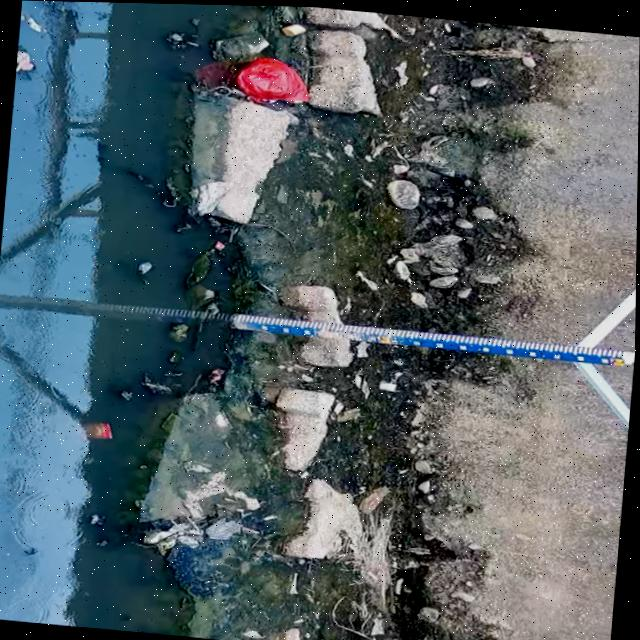water-meter: (219, 308, 629, 371)
